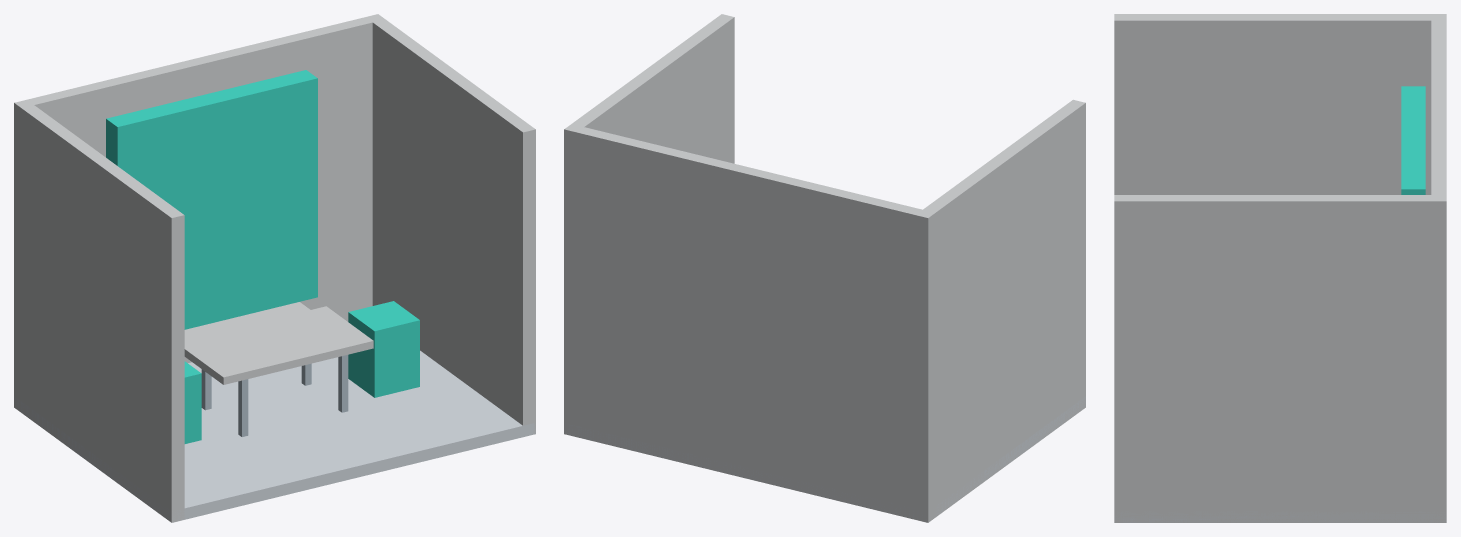
3 views of the same model, side by side, from view 1: azimuth 30°, elevation 25°; view 2: azimuth 150°, elevation 25°; view 3: azimuth 270°, elevation 25° (orthographic). The views are drawn at different scales.
Visible parts, largest first — view 1: Exhibition Booth Concept; view 2: Exhibition Booth Concept; view 3: Exhibition Booth Concept.
Part boxes in pixels (<box>): Exhibition Booth Concept: <box>14,14,535,522</box>; Exhibition Booth Concept: <box>564,14,1085,522</box>; Exhibition Booth Concept: <box>1114,14,1446,522</box>.
Size of the model in its own units: 4 by 3.2 by 3.
